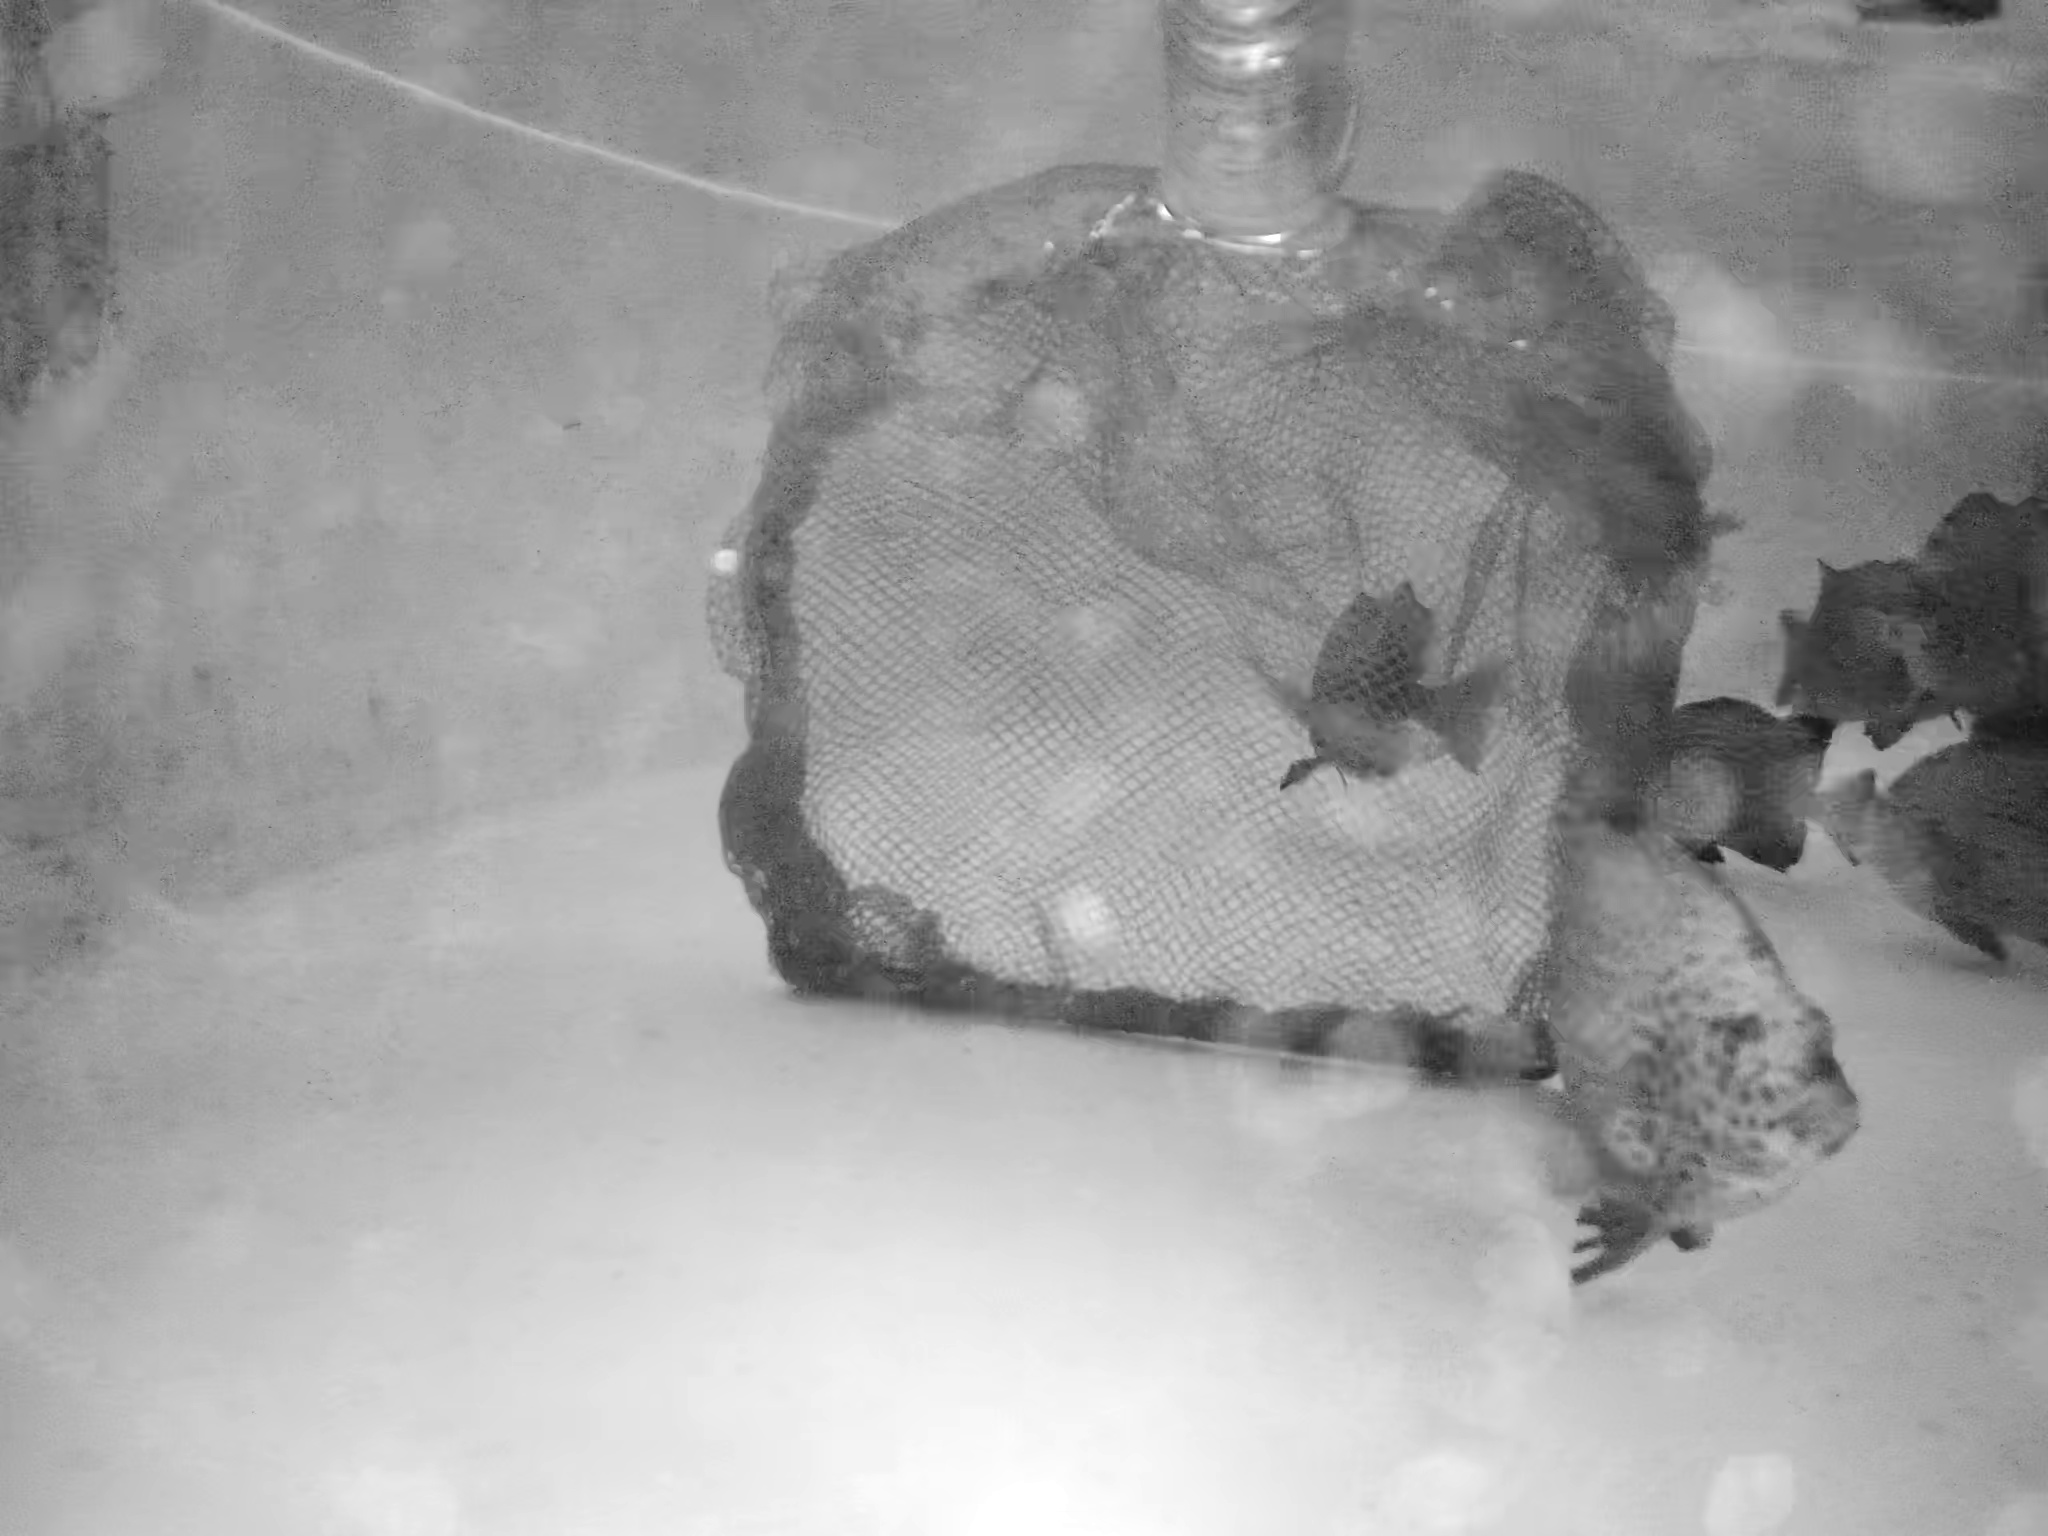fish: (1538, 841, 1854, 1263), (1258, 552, 1529, 831), (1655, 686, 1854, 894), (1787, 528, 1943, 744), (1856, 771, 2048, 944), (1909, 490, 2048, 723)
